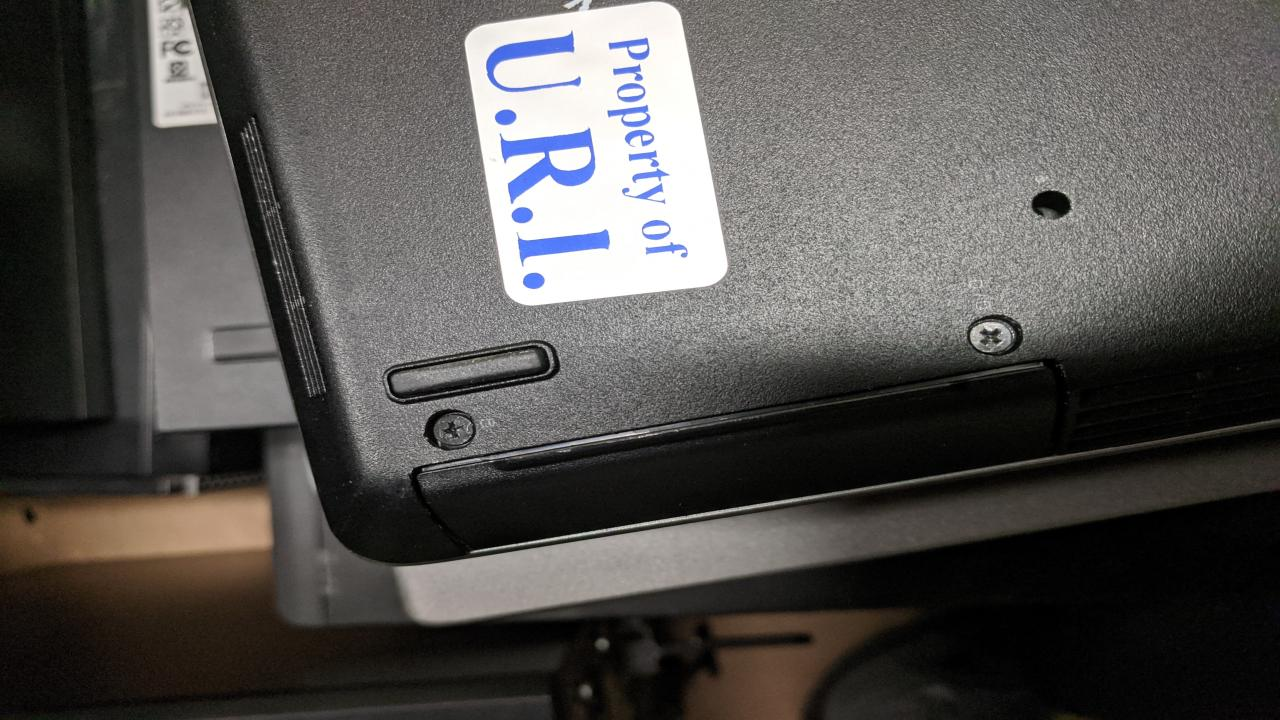CRS: (423, 408, 487, 448), (960, 318, 1023, 354)
